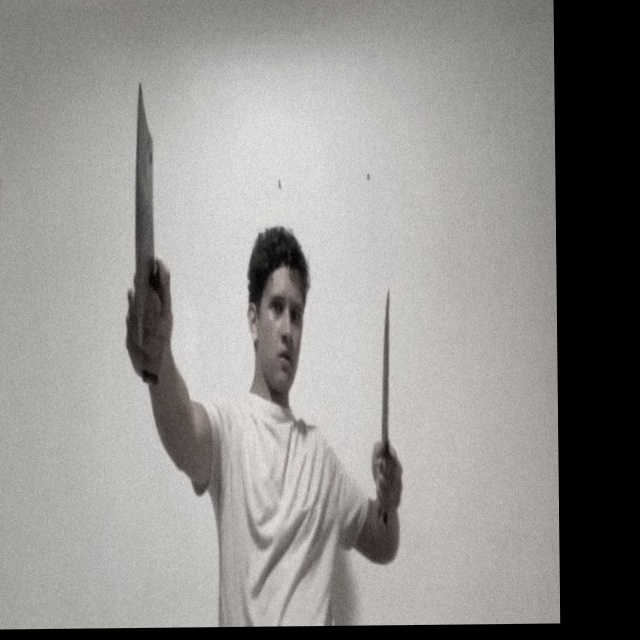Sharp-Object: (132, 81, 155, 310), (381, 290, 392, 448)
